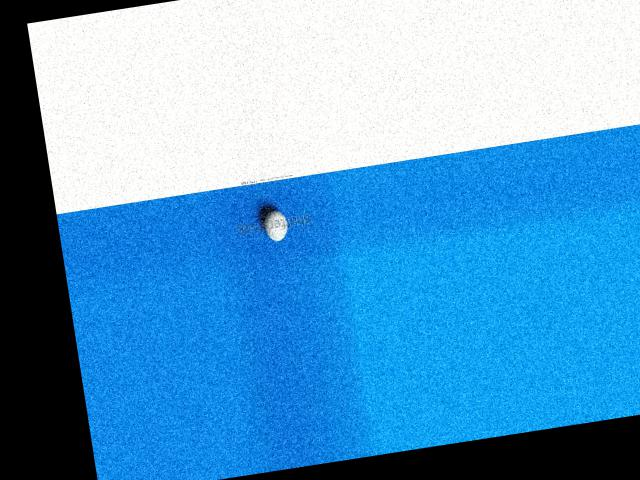egg: (262, 208, 288, 243)
